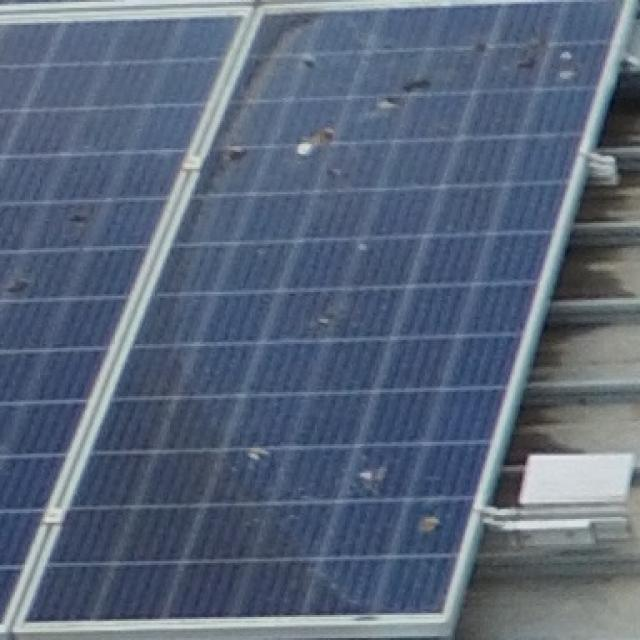Dust: (74, 378, 308, 640), (206, 0, 296, 255), (0, 264, 45, 306)
bird-droppings: (208, 136, 260, 189), (374, 74, 428, 112), (232, 430, 268, 482), (296, 121, 340, 161), (351, 460, 395, 494), (556, 37, 584, 89), (309, 299, 345, 332), (403, 504, 443, 533), (518, 33, 546, 70), (286, 48, 317, 75), (469, 41, 495, 62), (352, 237, 373, 258), (68, 208, 86, 230)
